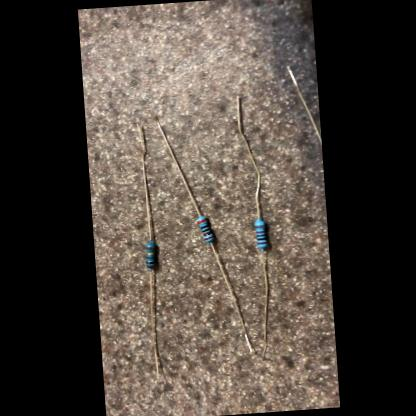resistor: (196, 215, 214, 242), (254, 218, 266, 247), (144, 242, 156, 269)
wire: (153, 114, 201, 218), (209, 239, 252, 354), (235, 94, 262, 218), (286, 63, 320, 147), (252, 249, 272, 358), (136, 122, 152, 240), (147, 268, 159, 378)
